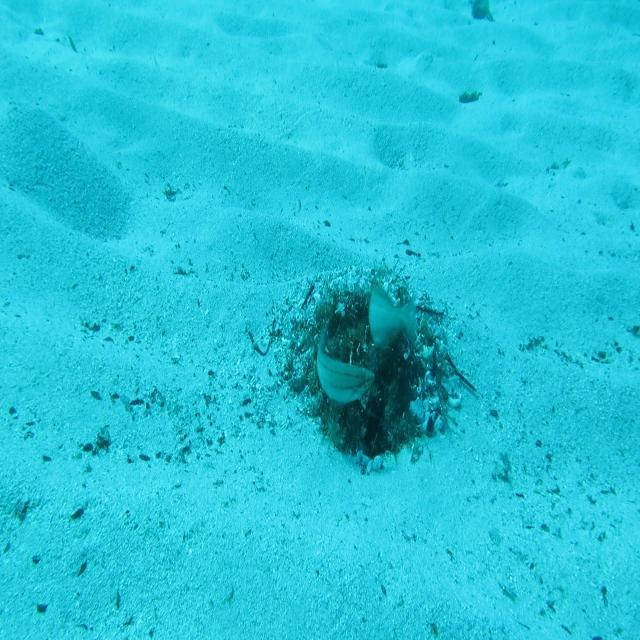SPA: (367, 278, 420, 356)
core_nest: (349, 298, 391, 347)
female: (315, 319, 376, 407)
nest: (263, 256, 473, 482)
vegetation: (467, 0, 496, 26), (458, 88, 484, 108)
